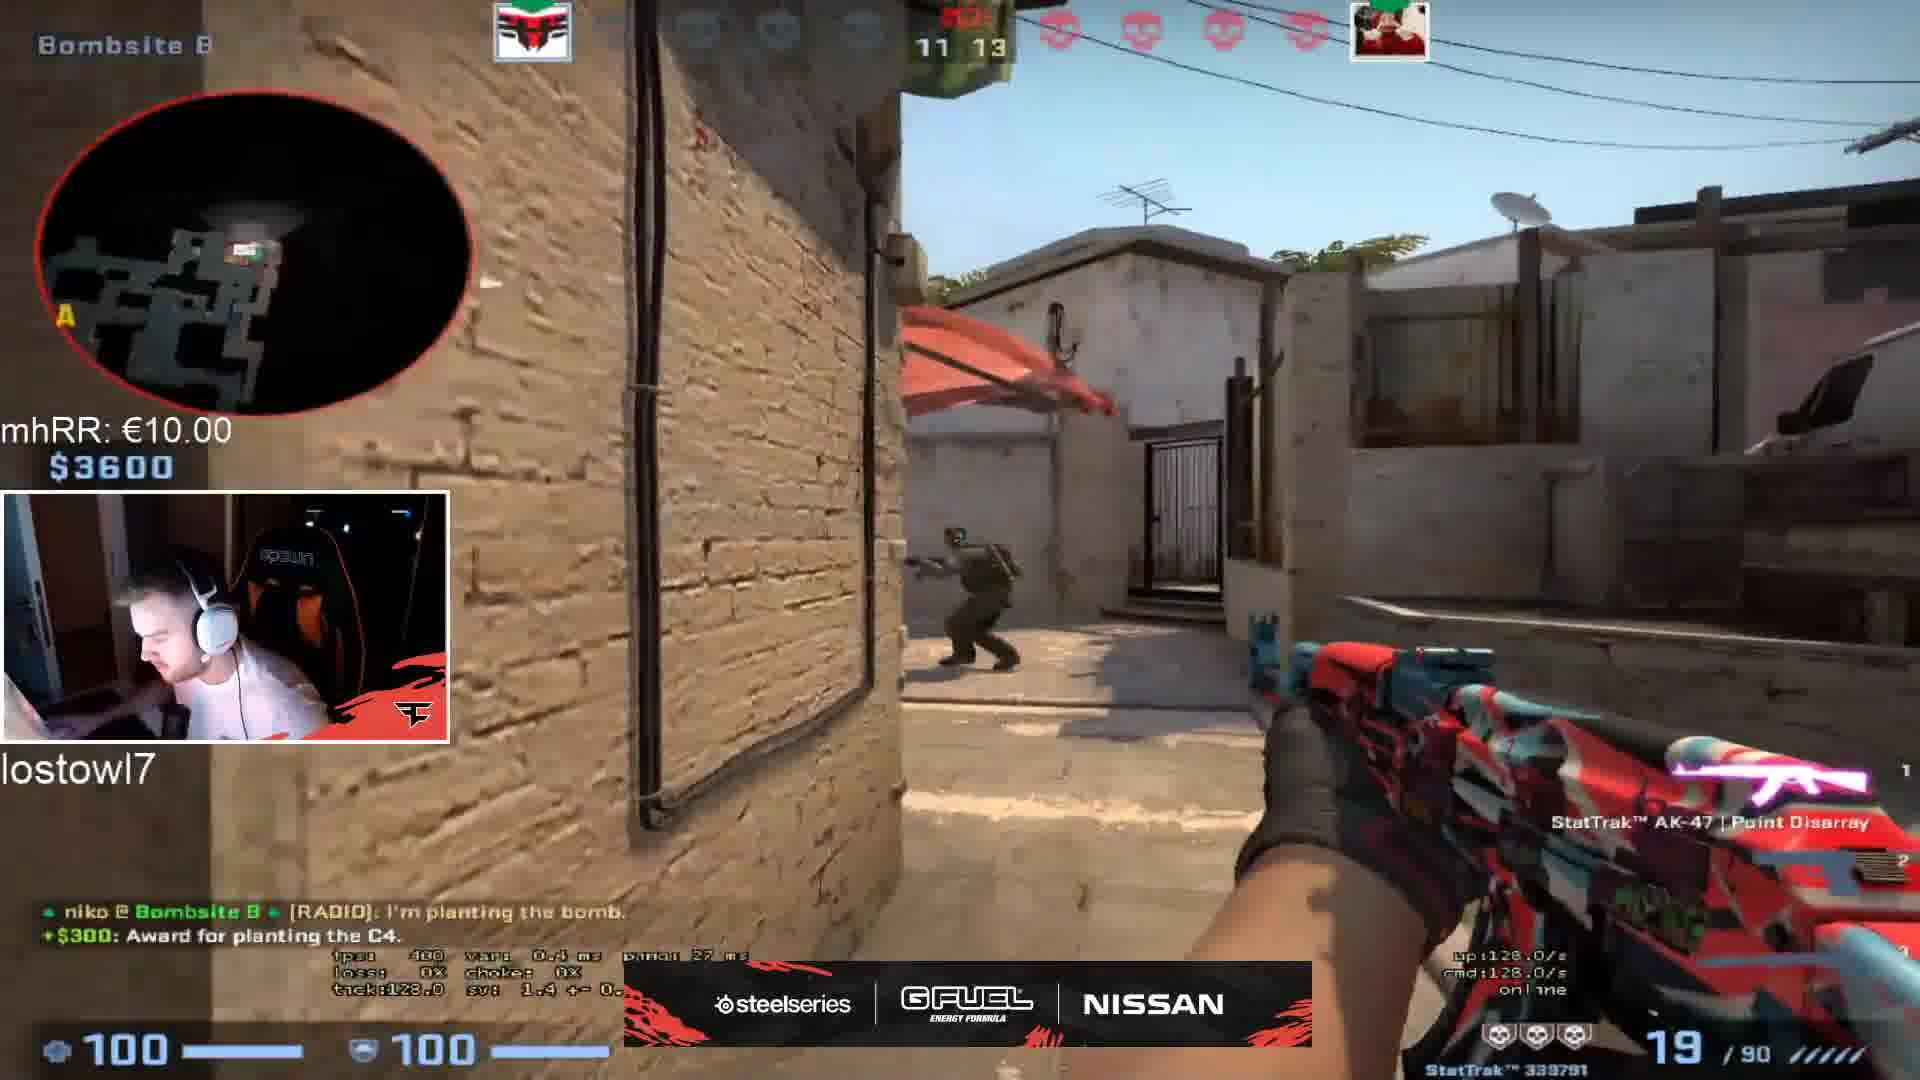enemy: (905, 510, 1036, 692)
